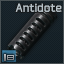AK 7.62x39 Venom Tactical Antidote muzzle brake & compensator: (0, 0, 64, 64)
